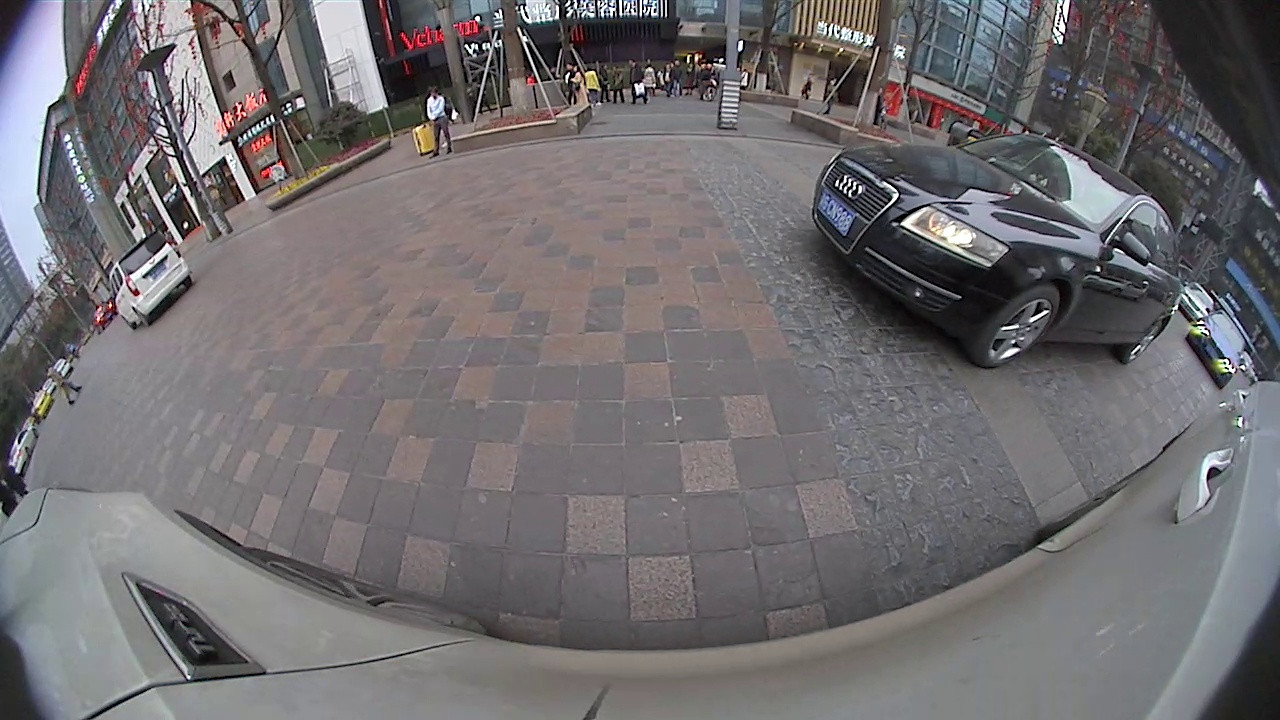car: (811, 130, 1184, 371), (107, 229, 194, 331), (1186, 308, 1247, 390), (1176, 280, 1215, 326)
front: (964, 282, 1064, 370)
person: (428, 90, 451, 158), (49, 366, 62, 402)
rear: (1118, 318, 1166, 369)
